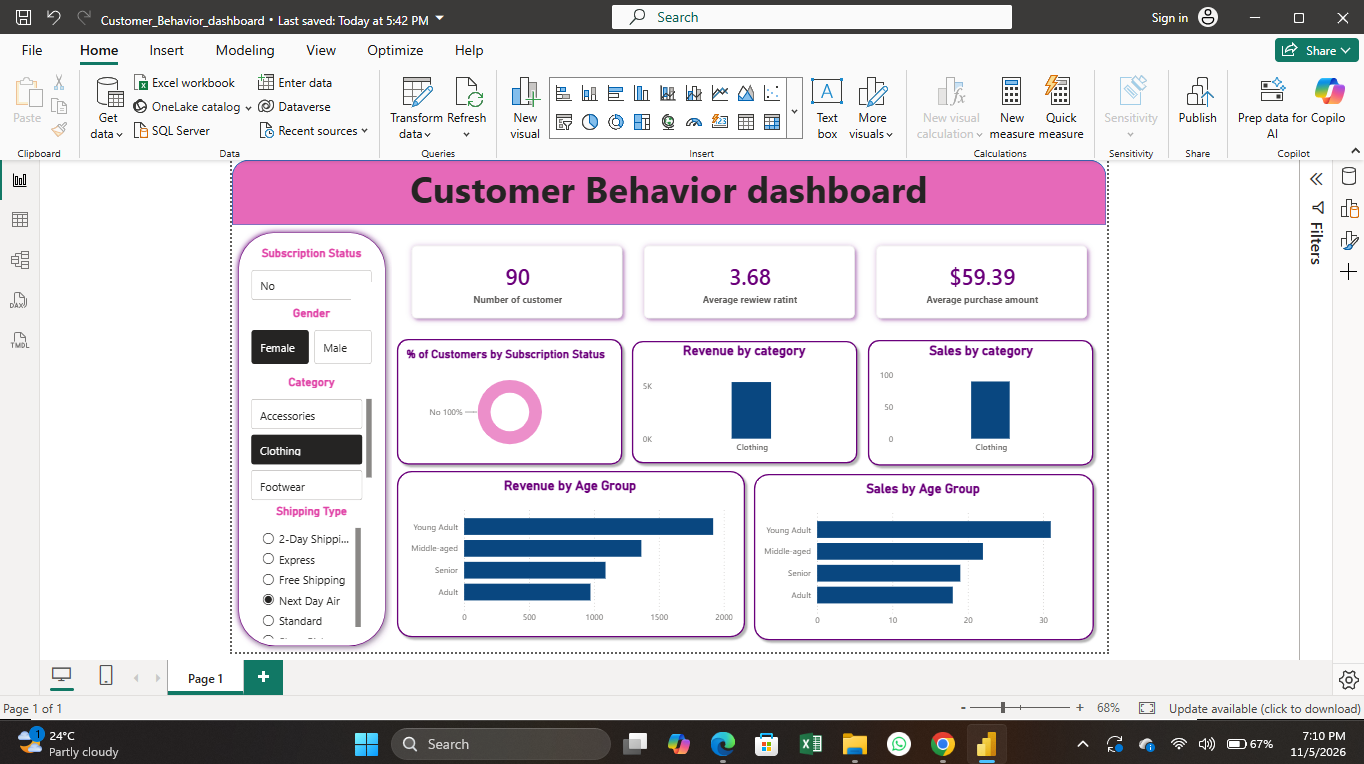

The dashboard page shown, as its layout file describes it:
{"tool":"powerbi","page":{"name":"Page 1","canvas":[1280,720],"ordinal":0},"visuals":[{"type":"cardVisual","fields":{"Data":["public customer.Number of customer","public customer.Average rewiew ratint","public customer.Average purchase amount"]},"box":[234,96,1046,164],"z":0},{"type":"shape","box":[0,0,1279.4,95.2],"z":1000},{"type":"textbox","box":[0,0,1279.4,95.2],"z":2000},{"type":"shape","box":[234,254,344.4,198.4],"z":3000},{"type":"donutChart","title":"% of Customers by Subscription Status","fields":{"Category":["public customer.subscription_status"],"Y":["CountNonNull(public customer.customer_id)"]},"box":[250,274,312.7,160.3],"z":4000},{"type":"shape","box":[923.8,255.6,344.4,198.4],"z":5000},{"type":"shape","box":[578,258,344.4,193.7],"z":6000},{"type":"clusteredColumnChart","title":"Revenue by category","fields":{"Y":["Sum(public customer.purchase_amount)"],"Category":["public customer.category"]},"box":[596,268,308,170],"z":7000},{"type":"clusteredColumnChart","title":"Sales by category","fields":{"Category":["public customer.category"],"Y":["CountNonNull(public customer.customer_id)"]},"box":[942,268,308,170],"z":8000},{"type":"shape","box":[0,96,234,624],"z":9000},{"type":"advancedSlicerVisual","fields":{"Values":["public customer.subscription_status"]},"box":[24,126,186,84],"z":10000},{"type":"advancedSlicerVisual","fields":{"Values":["public customer.gender"]},"box":[24,214,186,90],"z":11000},{"type":"advancedSlicerVisual","fields":{"Values":["public customer.category"]},"box":[24,314,186,190],"z":11001},{"type":"listSlicer","fields":{"Values":["public customer.shipping_type"]},"box":[40,504,154,202],"z":11002},{"type":"shape","box":[234,448,524,258],"z":11004},{"type":"clusteredBarChart","title":"Revenue by Age Group","fields":{"Y":["Sum(public customer.purchase_amount)"],"Category":["public customer.age_group"]},"box":[252,466,486,222],"z":11005},{"type":"shape","box":[756,452,512,258],"z":11006},{"type":"clusteredBarChart","title":"Sales by Age Group","fields":{"Y":["CountNonNull(public customer.customer_id)"],"Category":["public customer.age_group"]},"box":[768,470,486,222],"z":11007}]}

Visuals, with their boxes on the page's 1280x720 design canvas (x1, y1, x2, y2). These are canvas units, not pixel positions in the 1364x764 screenshot, which may show the page scaled, cropped or inside an application window:
cardVisual - public customer.Number of customer x public customer.Average rewiew ratint: (234,96,1280,260)
shape: (0,0,1279,95)
textbox: (0,0,1279,95)
shape: (234,254,578,452)
"% of Customers by Subscription Status" donutChart: (250,274,563,434)
shape: (924,256,1268,454)
shape: (578,258,922,452)
"Revenue by category" clusteredColumnChart: (596,268,904,438)
"Sales by category" clusteredColumnChart: (942,268,1250,438)
shape: (0,96,234,720)
advancedSlicerVisual - public customer.subscription_status: (24,126,210,210)
advancedSlicerVisual - public customer.gender: (24,214,210,304)
advancedSlicerVisual - public customer.category: (24,314,210,504)
listSlicer - public customer.shipping_type: (40,504,194,706)
shape: (234,448,758,706)
"Revenue by Age Group" clusteredBarChart: (252,466,738,688)
shape: (756,452,1268,710)
"Sales by Age Group" clusteredBarChart: (768,470,1254,692)
